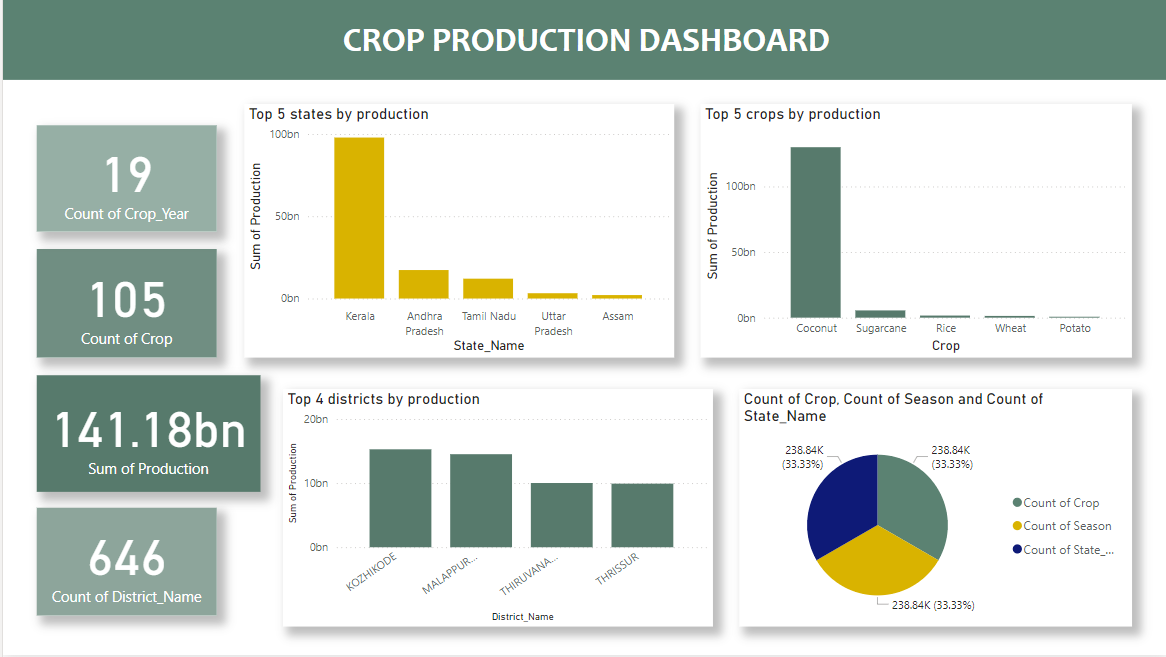

The page's visual inventory and layout, read from the dashboard file:
{"tool":"powerbi","page":{"name":"Page 1","canvas":[1280,720],"ordinal":0},"visuals":[{"type":"textbox","box":[0,0,1280.3,89.2],"z":0},{"type":"card","fields":{"Values":["Sum(preprocessed_crop_data.Production)"]},"box":[37,413,245.6,127.6],"z":1000},{"type":"card","fields":{"Values":["Count(preprocessed_crop_data.Crop)"]},"box":[37,274.4,197.6,119.4],"z":2000},{"type":"card","fields":{"Values":["Count(preprocessed_crop_data.Crop_Year)"]},"box":[37,138.6,197.6,116.6],"z":3000},{"type":"columnChart","title":"Top 5 states by production","fields":{"Category":["preprocessed_crop_data.State_Name"],"Y":["Sum(preprocessed_crop_data.Production)"]},"box":[264.8,115.3,472,278.6],"z":4000},{"type":"columnChart","title":"Top 5 crops by production","fields":{"Category":["preprocessed_crop_data.Crop"],"Y":["Sum(preprocessed_crop_data.Production)"]},"box":[765.7,115.3,473.4,278.6],"z":5000},{"type":"card","fields":{"Values":["Count(preprocessed_crop_data.District_Name)"]},"box":[37,558.5,197.6,118],"z":6000},{"type":"columnChart","title":"Top 4 districts by production","fields":{"Category":["preprocessed_crop_data.District_Name"],"Y":["Sum(preprocessed_crop_data.Production)"]},"box":[307.4,428.1,472,260.7],"z":7000},{"type":"pieChart","fields":{"Y":["CountNonNull(preprocessed_crop_data.Crop)","CountNonNull(preprocessed_crop_data.Season)","CountNonNull(preprocessed_crop_data.State_Name)"]},"box":[808.2,428.1,430.9,260.7],"z":8000}]}

Visuals, with their boxes in screenshot pixels (x1, y1, x2, y2), scaled from the page's 1280x720 canvas onto the 1166x657 screenshot:
textbox: box=[0, 0, 1165, 81]
card - Sum(preprocessed_crop_data.Production): box=[34, 377, 257, 493]
card - Count(preprocessed_crop_data.Crop): box=[34, 250, 214, 359]
card - Count(preprocessed_crop_data.Crop_Year): box=[34, 126, 214, 233]
"Top 5 states by production" columnChart: box=[241, 105, 671, 359]
"Top 5 crops by production" columnChart: box=[698, 105, 1129, 359]
card - Count(preprocessed_crop_data.District_Name): box=[34, 510, 214, 617]
"Top 4 districts by production" columnChart: box=[280, 391, 710, 629]
pieChart - CountNonNull(preprocessed_crop_data.Crop) x CountNonNull(preprocessed_crop_data.Season): box=[736, 391, 1129, 629]
